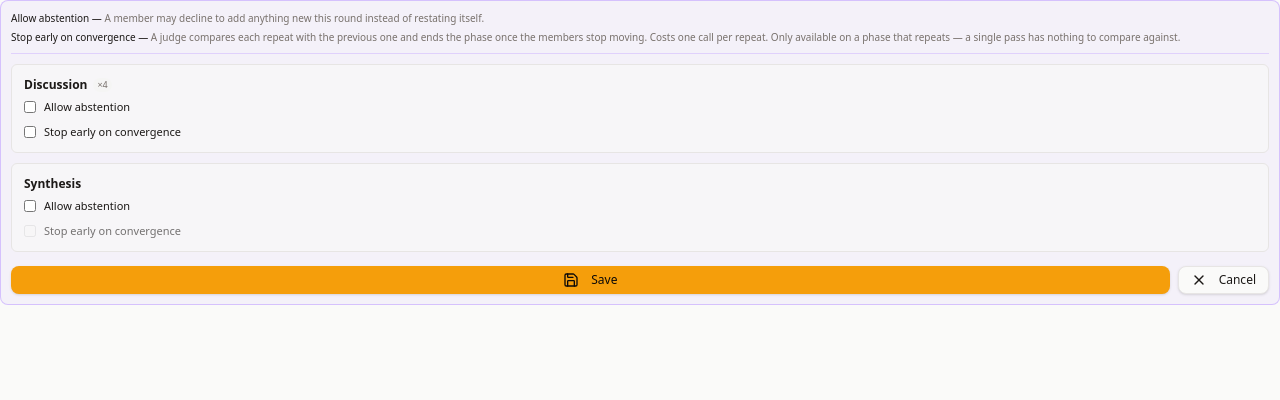
Test case: GroupPhaseEditor › warns that the SERVICE judge is not wired yet
The width and height of the screenshot is (1280, 400).
Click the checkbox with test id "phase-convergence-enable-0". click: (30, 132)
box: x1=24 y1=126 x2=36 y2=138
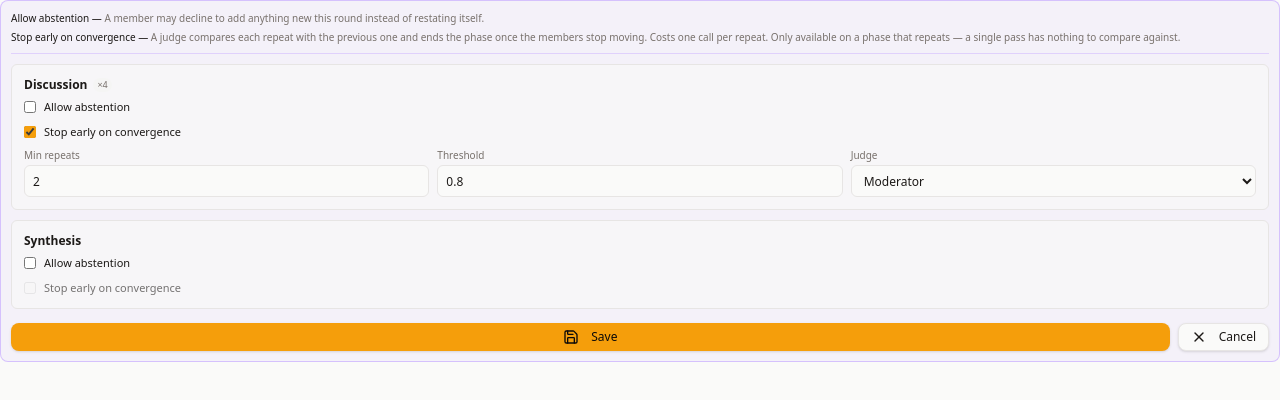
Select "Service" in the dropdown with test id "phase-convergence-judge-0". click: (1053, 181)
box: x1=851 y1=165 x2=1256 y2=197
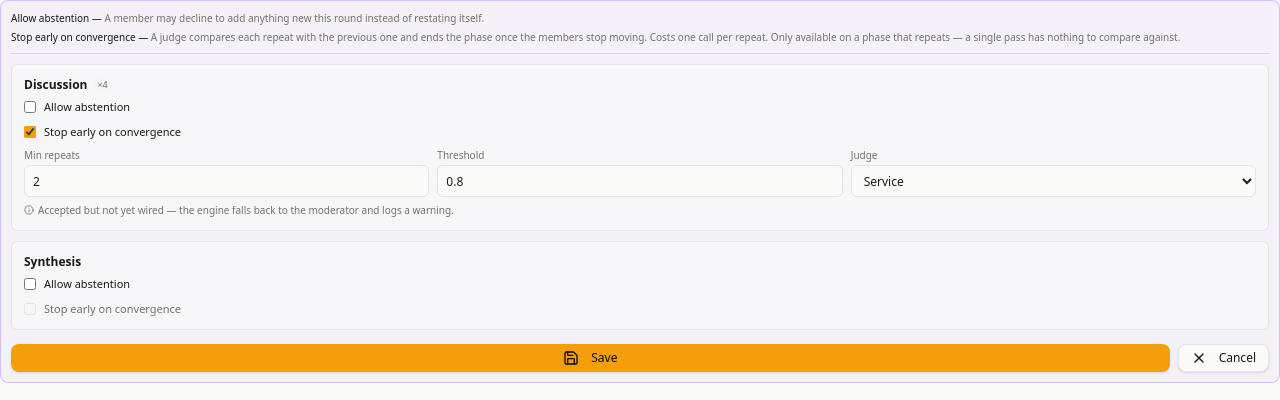
Result: the element with test id "phase-convergence-service-note-0" is shown at x1=24 y1=203 x2=454 y2=217
